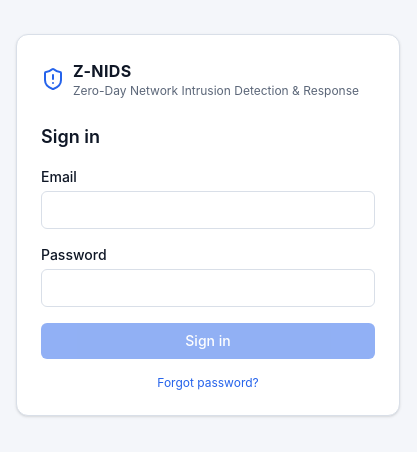
Test: authentication › shows a friendly message when rate limited
The image size is (417, 452).
Type "a@b.test" into the field labelled "Email". click: (208, 210)
box: [41,191,375,229]
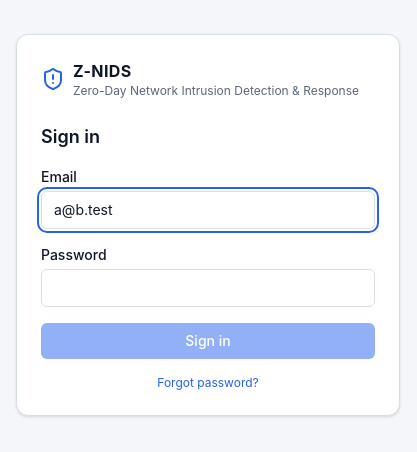
Type "whatever-password" into the password field labelled "Password". click: (208, 288)
box: [41,269,375,307]
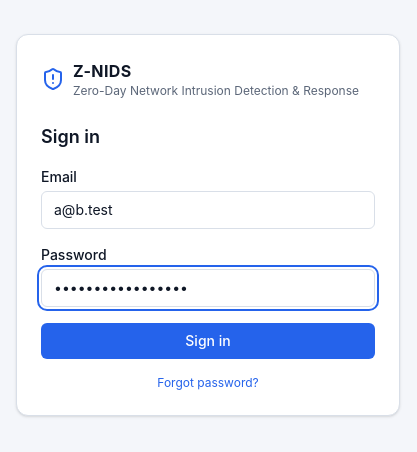
Click the button "Sign in". click: click(208, 341)
box: [41,323,375,359]
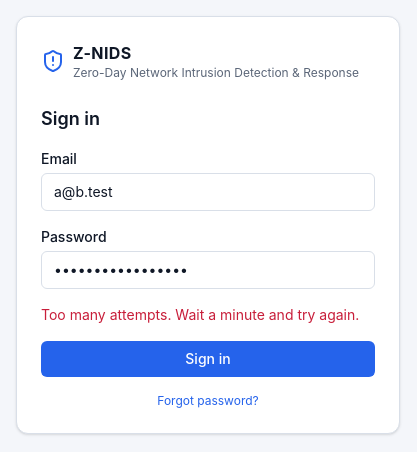
Expected: the message shows "Too many attempts", [41,306,359,323]
